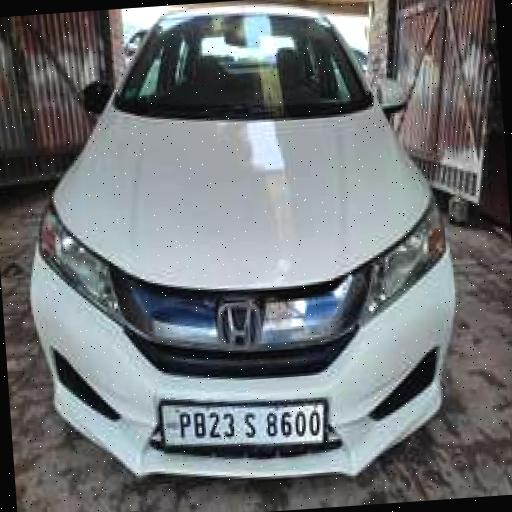license_plate`: (158, 390, 324, 449)
